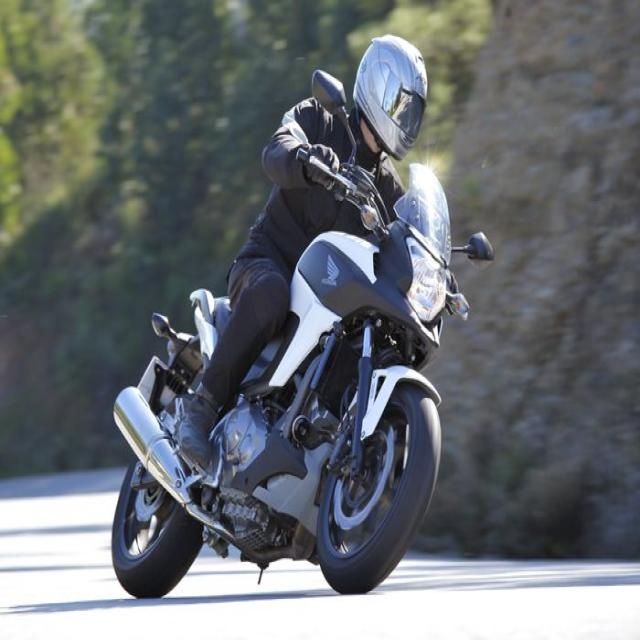helmet: (350, 30, 431, 165)
